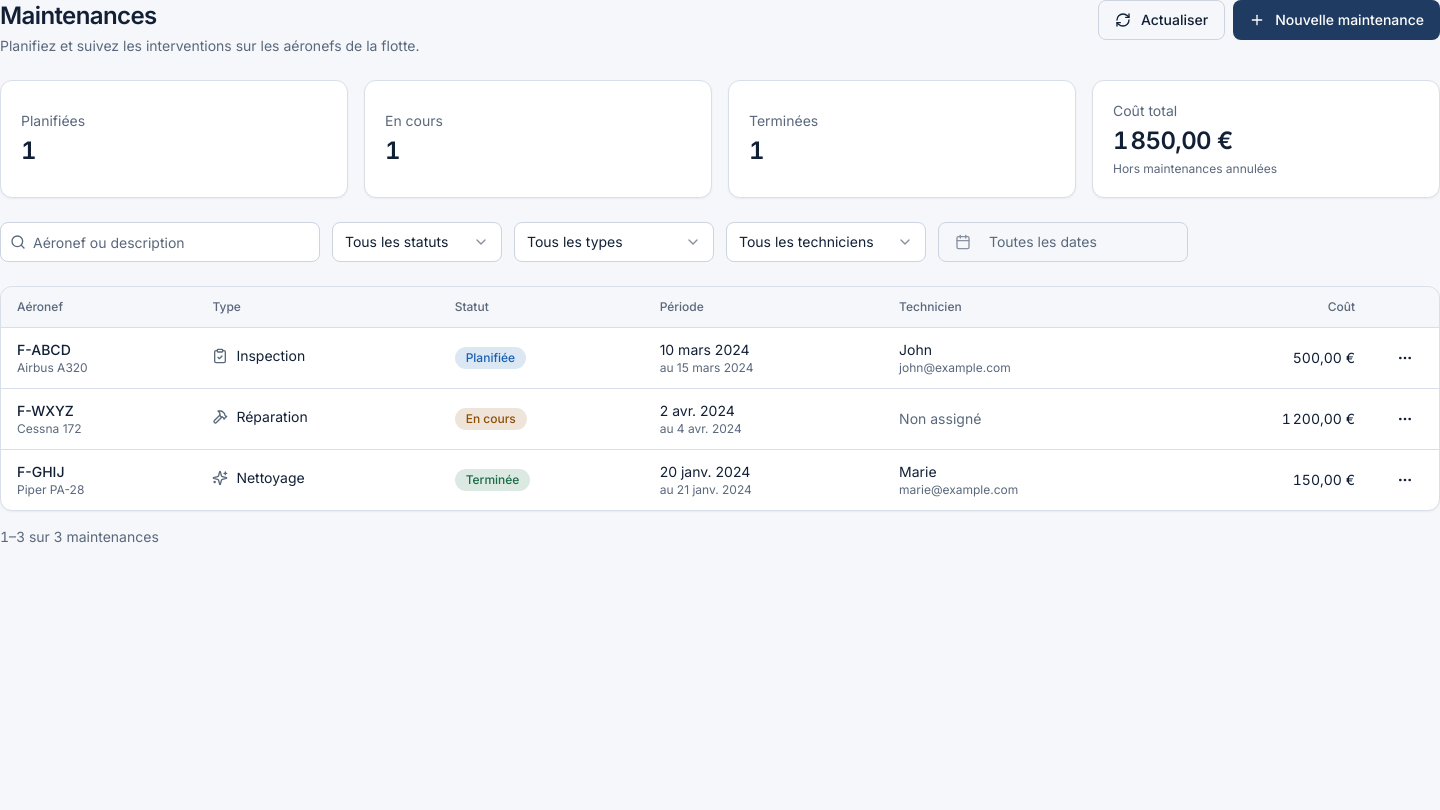
Test: MaintenanceTablePage › doit ouvrir le formulaire de création depuis le bouton "Nouvelle maintenance"
The image size is (1440, 810).
Expected: the text "F-ABCD" is shown, [17, 340, 71, 358]
Click the button "Nouvelle maintenance": (1337, 20) [1233, 0, 1439, 40]
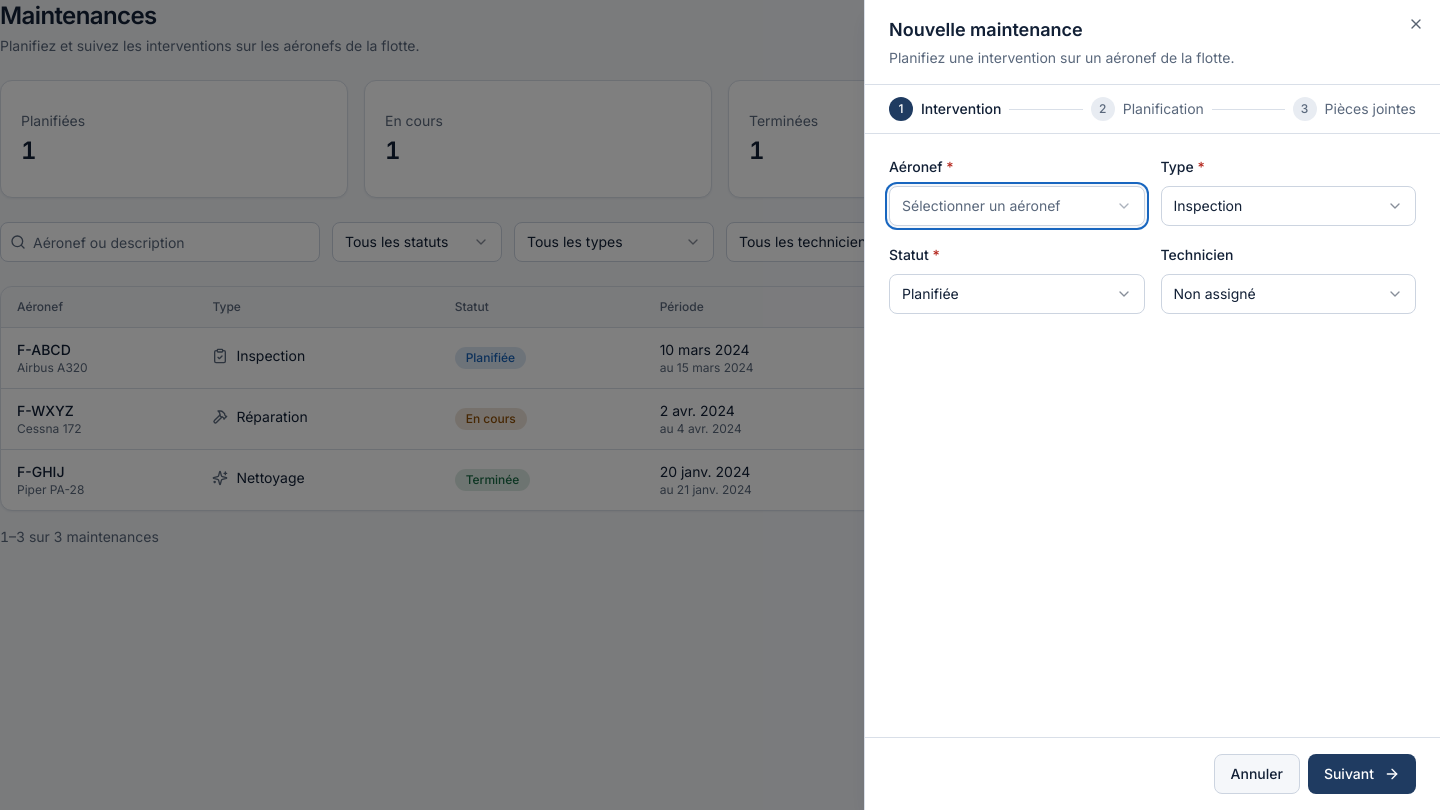
Now the text "Planifiez une intervention sur un aéronef de la flotte." is shown, box [889, 49, 1234, 66]
Now the text "Sélectionner un aéronef" is shown, box [902, 196, 1060, 216]
Now the number of list items is 3, box [889, 97, 1001, 121]; [1091, 97, 1204, 121]; [1293, 97, 1416, 121]
Click the button "Suivant": (1362, 774) [1308, 754, 1416, 794]
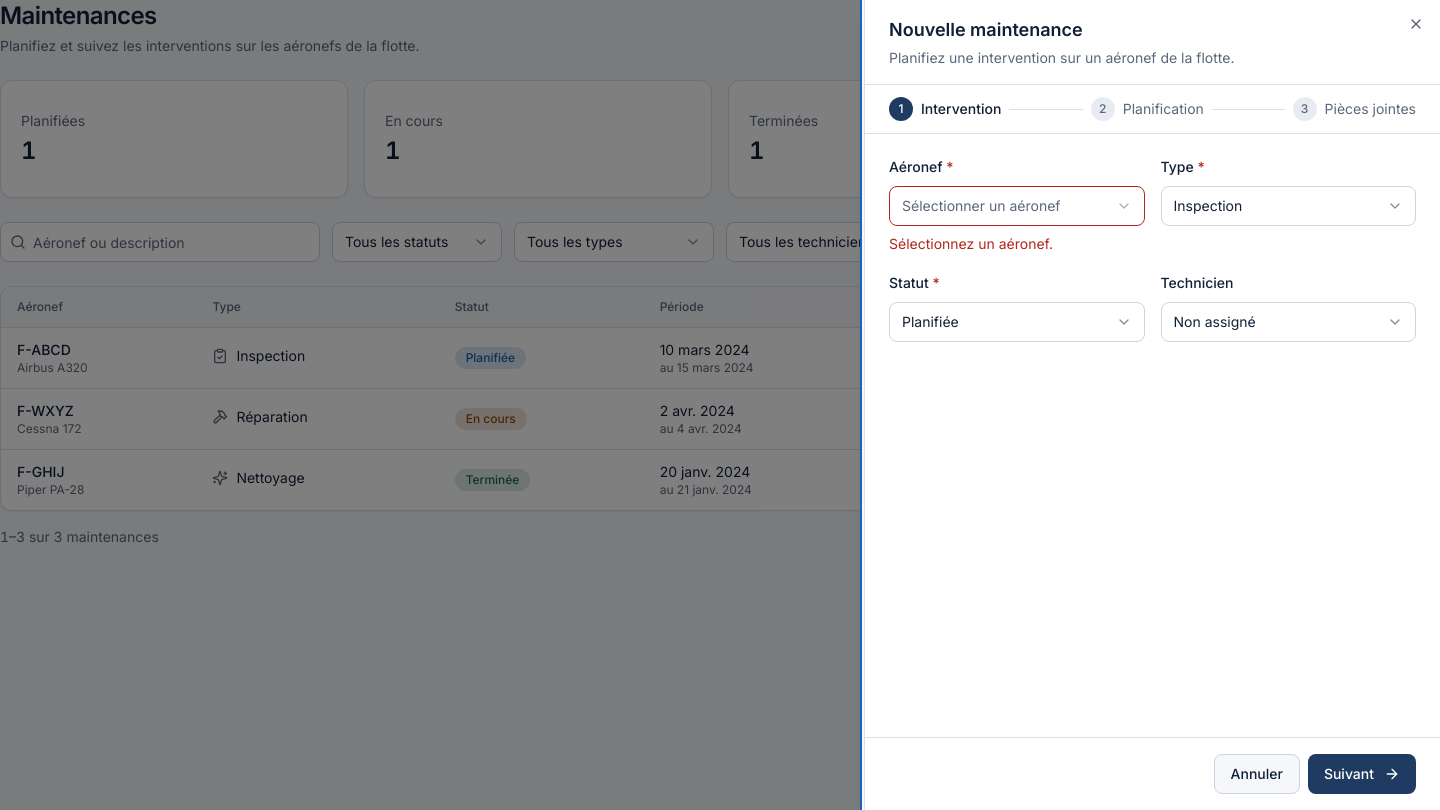
Now the text "Sélectionnez un aéronef." is shown, box [889, 235, 1053, 252]
Click the button "Annuler": (1257, 774) [1214, 754, 1300, 794]
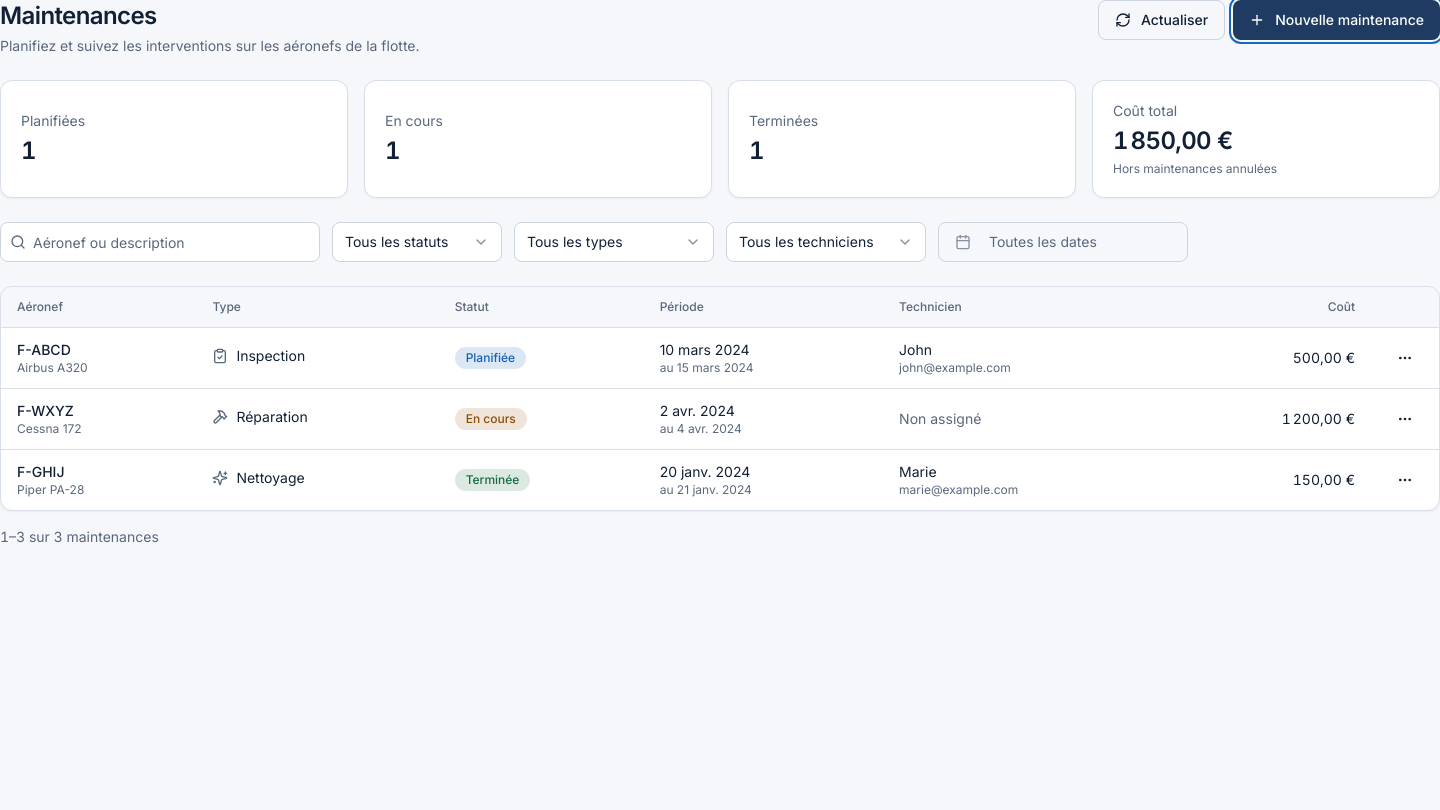
Now the dialog is gone
